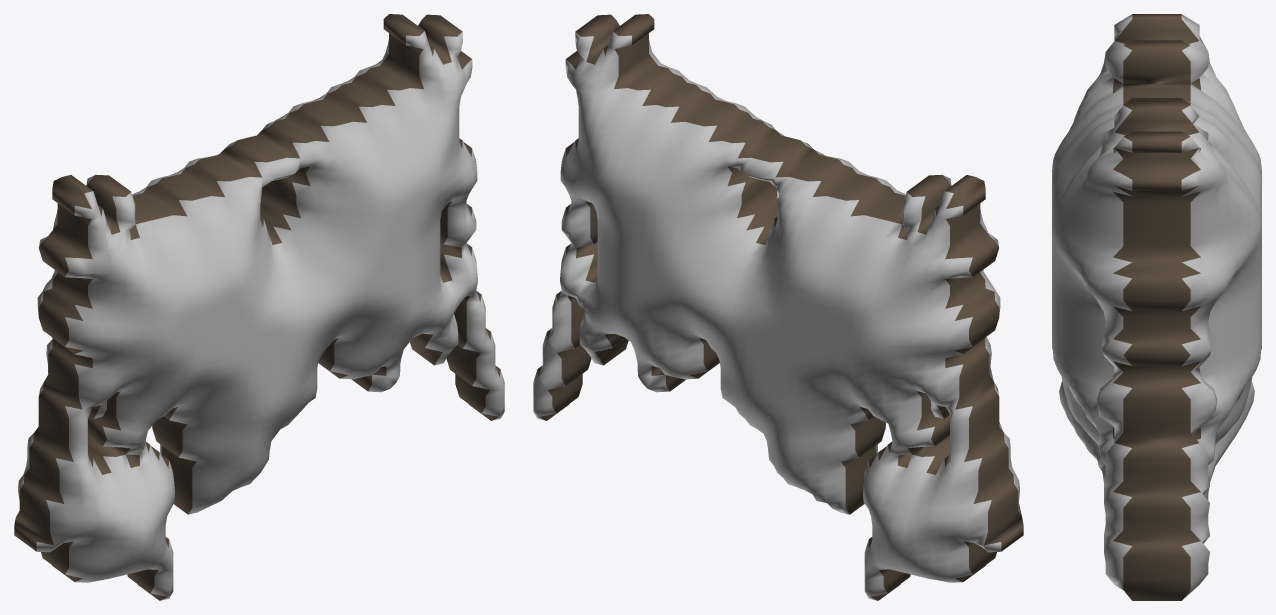
The model's file is fishing_nets.glb.
The picture shows the model from 3 angles, left to right: view 1: azimuth 30°, elevation 25°; view 2: azimuth 150°, elevation 25°; view 3: azimuth 270°, elevation 25°; orthographic projection. The views are drawn at different scales.
Parts seen in each view (by area): view 1: fishing_nets; view 2: fishing_nets; view 3: fishing_nets.
Part boxes in pixels (x1,y1,x2,y2): fishing_nets: (14,14,504,600); fishing_nets: (533,14,1023,600); fishing_nets: (1052,14,1261,600).
Size of the model in its own units: 0.9692 by 1.01 by 0.343.
